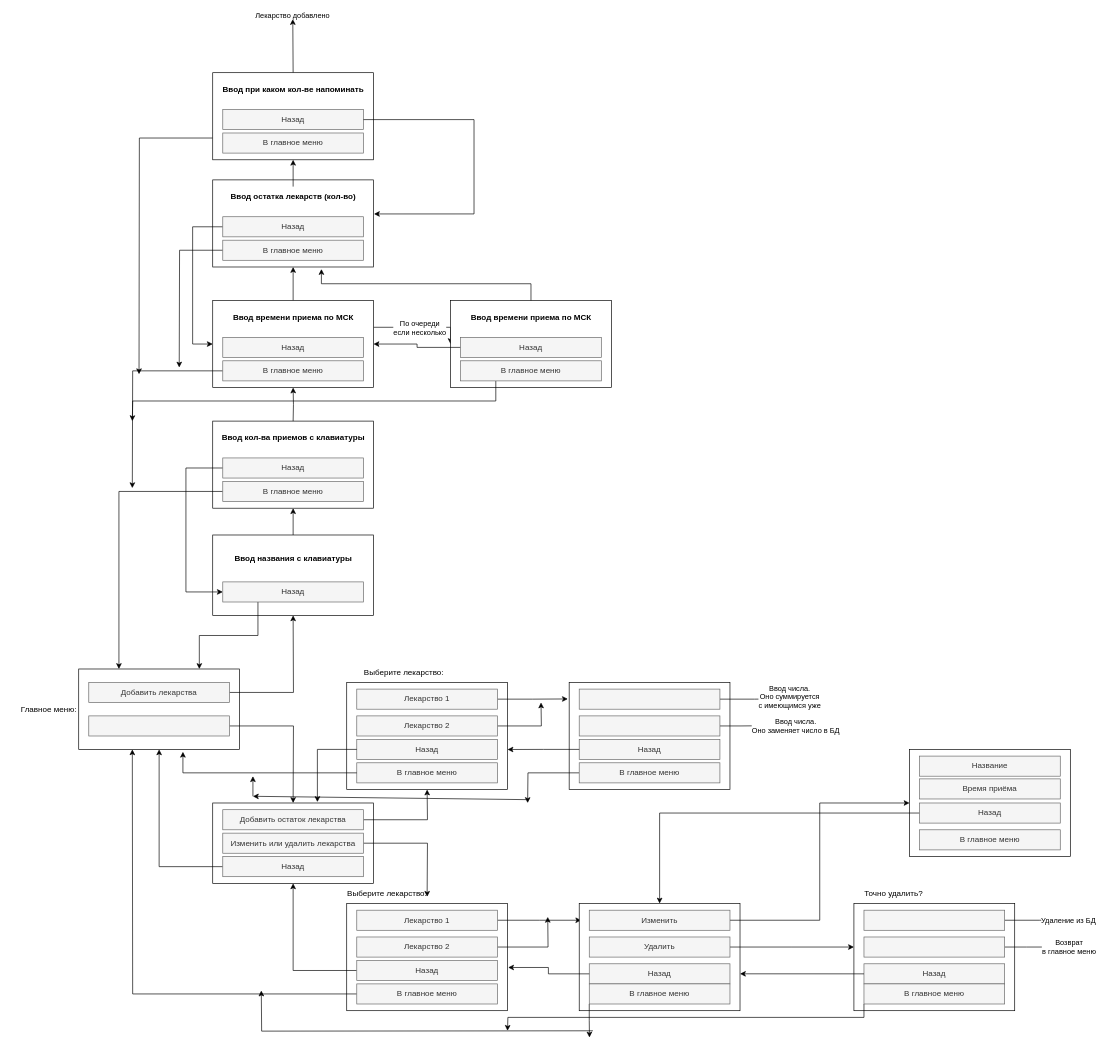
This 1108x1055 diagram has some shape labels left out. The box of each missing label's shape, as (x1, y1, x2, y2) in pixels:
Да: (863, 910, 1005, 930)
Добавить количество: (579, 688, 720, 709)
Изменить количество: (579, 715, 720, 736)
Нет: (863, 936, 1005, 957)
Просмотр лекарств: (88, 715, 229, 736)
